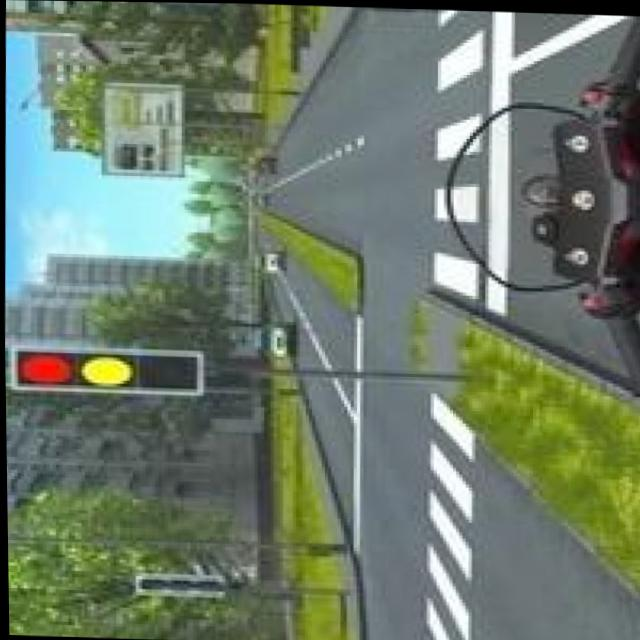red_light: (4, 310, 62, 409)
yellow_light: (70, 312, 137, 416)
